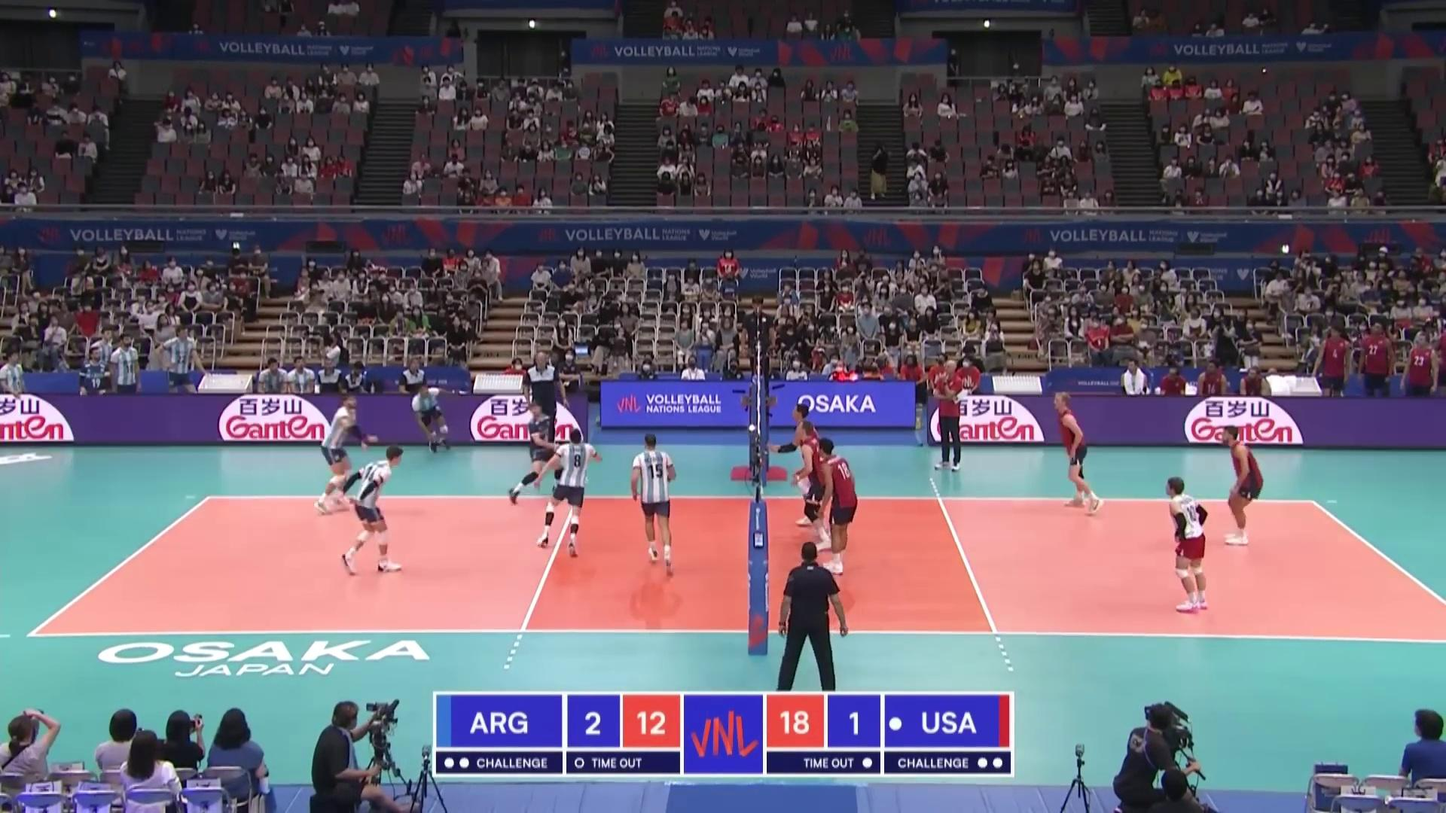player: (537, 429, 600, 558), (340, 447, 403, 573), (630, 432, 679, 574), (1052, 393, 1105, 514), (313, 393, 365, 516), (1164, 477, 1211, 612), (815, 436, 859, 573), (791, 422, 837, 549), (508, 405, 565, 504), (1220, 426, 1264, 548), (777, 404, 821, 526), (410, 385, 453, 452)
refree: (773, 548, 848, 692), (740, 295, 776, 386)
